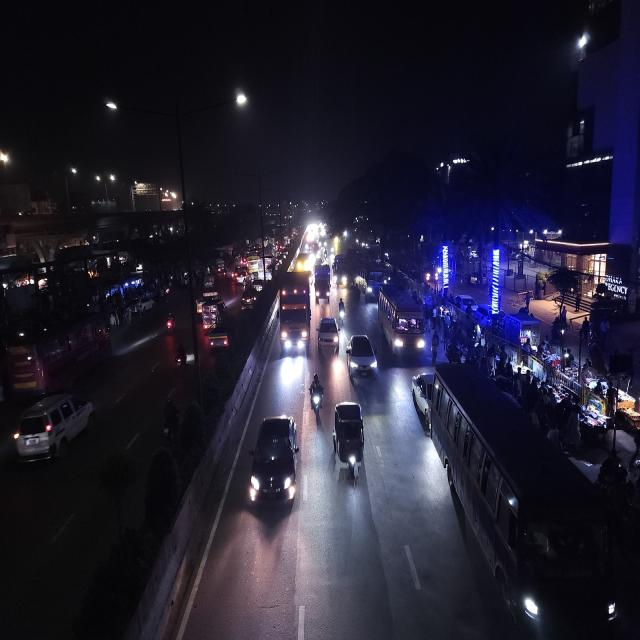bus: (429, 365, 615, 640), (5, 312, 113, 390), (376, 282, 428, 364), (573, 0, 623, 61), (355, 257, 385, 301), (332, 251, 352, 290)
car: (9, 388, 97, 472), (246, 411, 299, 516), (410, 363, 452, 437), (346, 330, 378, 385), (316, 314, 340, 356), (239, 288, 256, 314), (232, 266, 248, 287)
cng: (331, 397, 366, 484)
motorcycle: (308, 370, 324, 421), (174, 338, 190, 373), (163, 308, 177, 337), (336, 297, 348, 326)
pickup_van: (207, 322, 231, 352)
truck: (277, 270, 313, 359), (314, 261, 332, 308), (202, 303, 222, 329)
